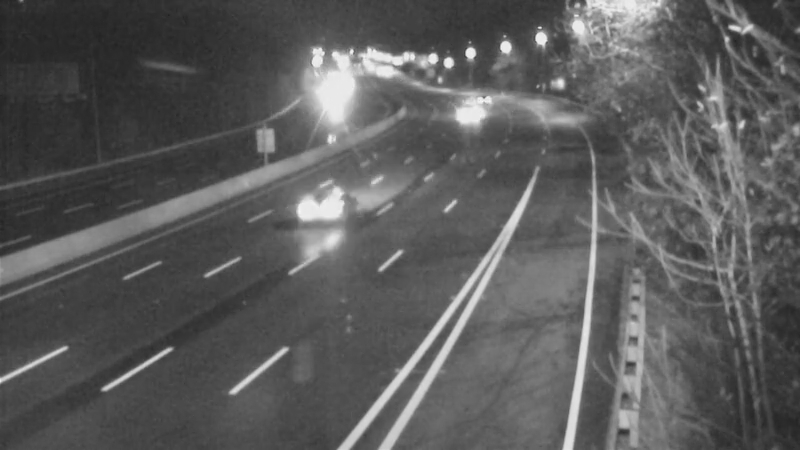vehicle: (283, 161, 363, 241), (455, 75, 505, 125), (441, 89, 491, 139), (308, 73, 358, 123)
